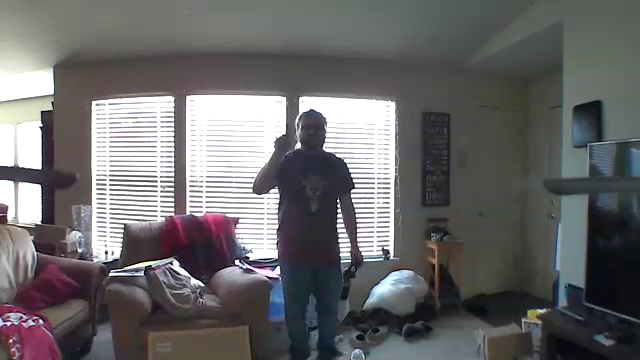up: (272, 122, 295, 157)
